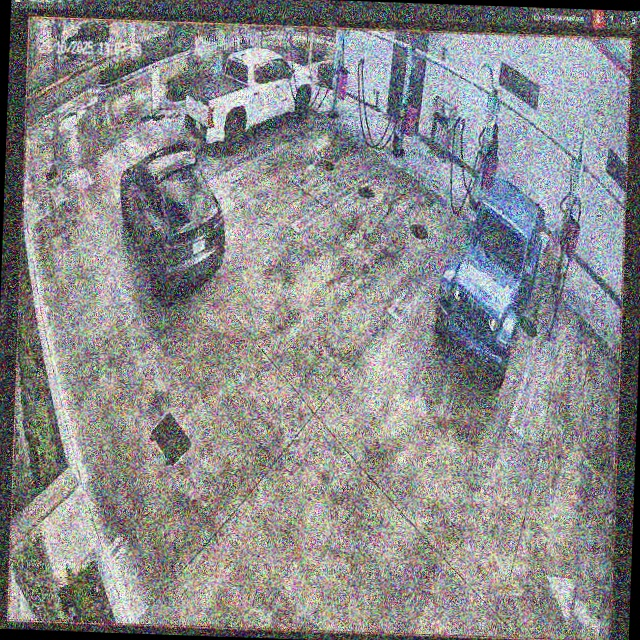Car: (435, 177, 547, 379), (116, 143, 229, 301)
